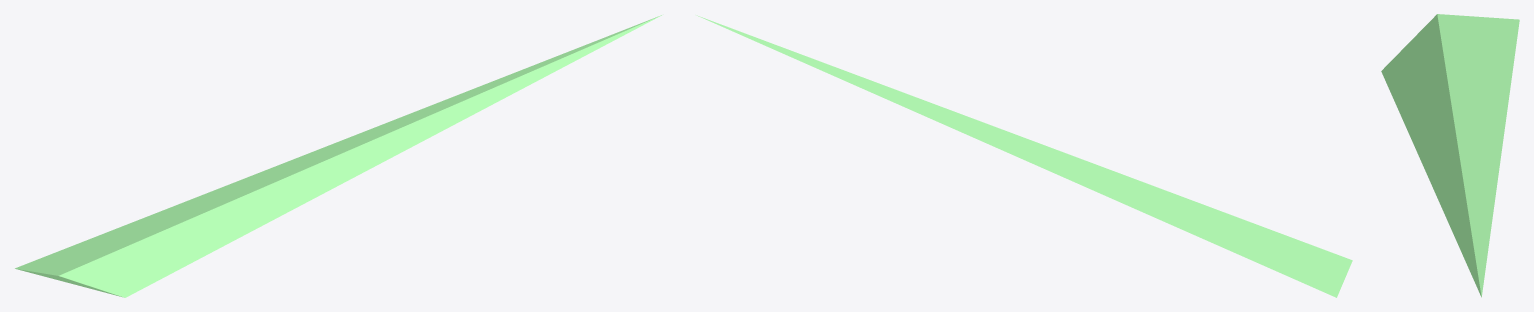
File: xarm7_with_gripper_robot_base_coll_1.dae
The picture shows the model from 3 angles, left to right: view 1: azimuth 30°, elevation 25°; view 2: azimuth 150°, elevation 25°; view 3: azimuth 270°, elevation 25°; orthographic projection. The views are drawn at different scales.
Visible parts, largest first — view 1: Node_000001B89B5E6480; view 2: Node_000001B89B5E6480; view 3: Node_000001B89B5E6480.
Boxes of the visible parts, x1,y1,x2,y2 form: Node_000001B89B5E6480: (15,15,661,297); Node_000001B89B5E6480: (696,15,1352,297); Node_000001B89B5E6480: (1381,14,1519,297).
Size of the model in its own units: 0.1454 by 0.0255 by 0.0198.
